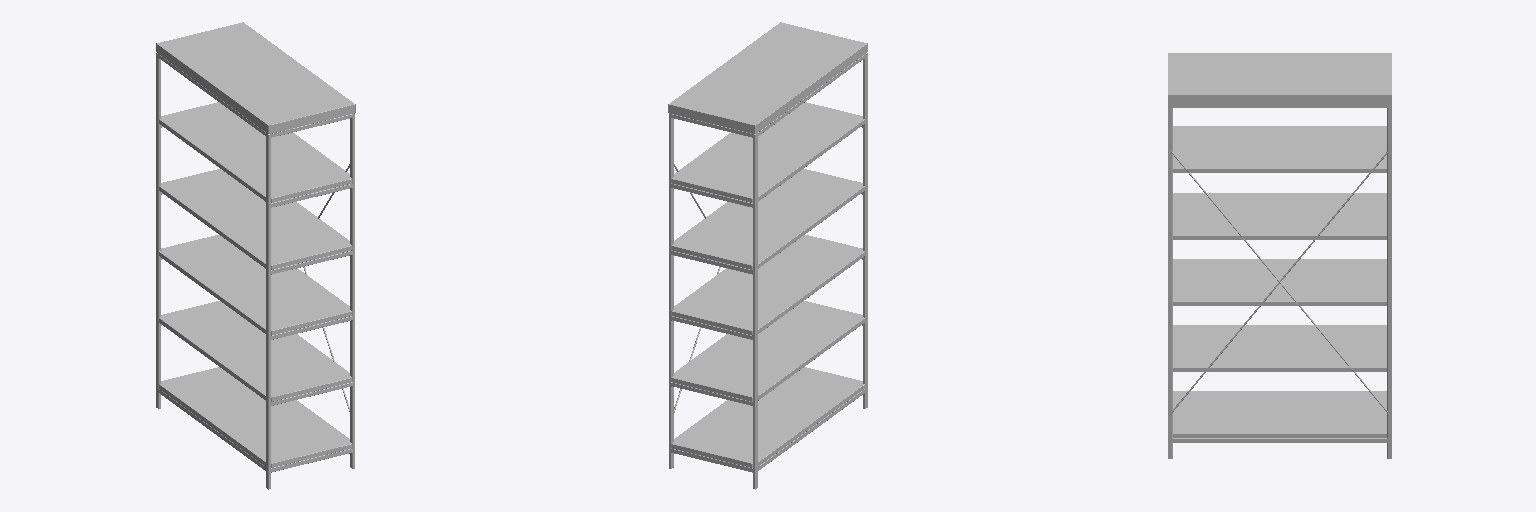
File: bookcase.obj
The picture shows the model from 3 angles: view 1: azimuth 30°, elevation 25°; view 2: azimuth 150°, elevation 25°; view 3: azimuth 270°, elevation 25°; orthographic projection.
Parts seen in each view (by area): view 1: Bookcase_uploads_files_[number redacted]_Daria+Accent+Accent+Shelves; view 2: Bookcase_uploads_files_[number redacted]_Daria+Accent+Accent+Shelves; view 3: Bookcase_uploads_files_[number redacted]_Daria+Accent+Accent+Shelves.
Boxes of the visible parts, <box> form: Bookcase_uploads_files_[number redacted]_Daria+Accent+Accent+Shelves: <box>156,22,355,489</box>; Bookcase_uploads_files_[number redacted]_Daria+Accent+Accent+Shelves: <box>668,22,867,489</box>; Bookcase_uploads_files_[number redacted]_Daria+Accent+Accent+Shelves: <box>1168,53,1391,458</box>.
Size of the model in its own units: 1.78 by 7.08 by 3.95.